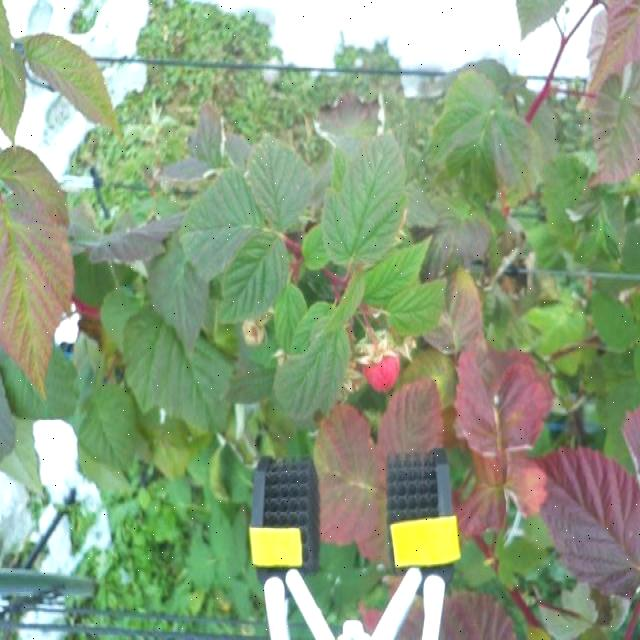Riped berries: (360, 347, 402, 393)
